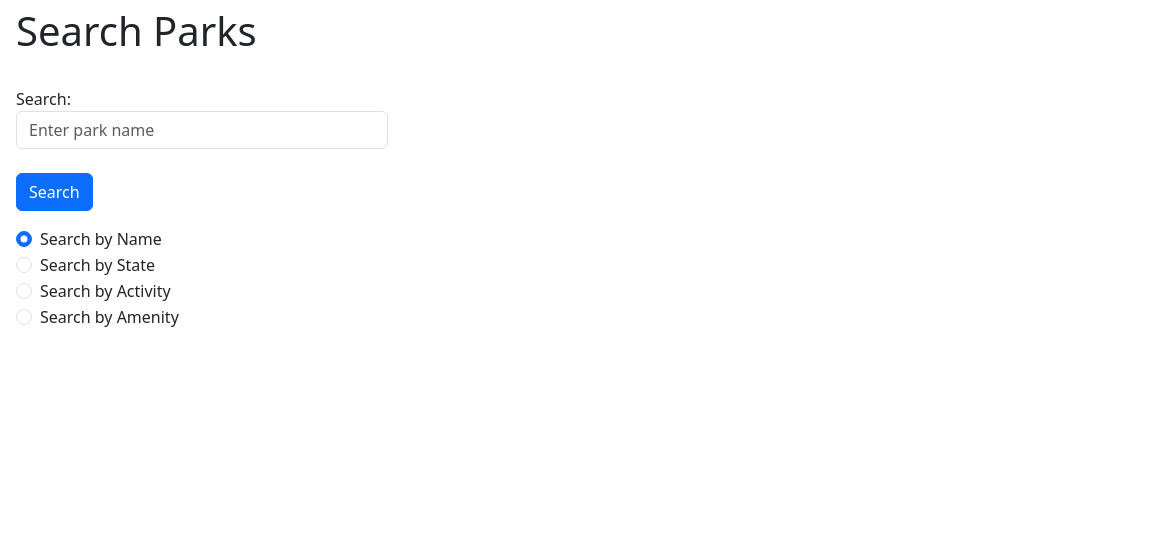
it: Search component › search by amenity
Click the radio button labelled "Search by Amenity" at x=24, y=317, box [16, 309, 32, 325]
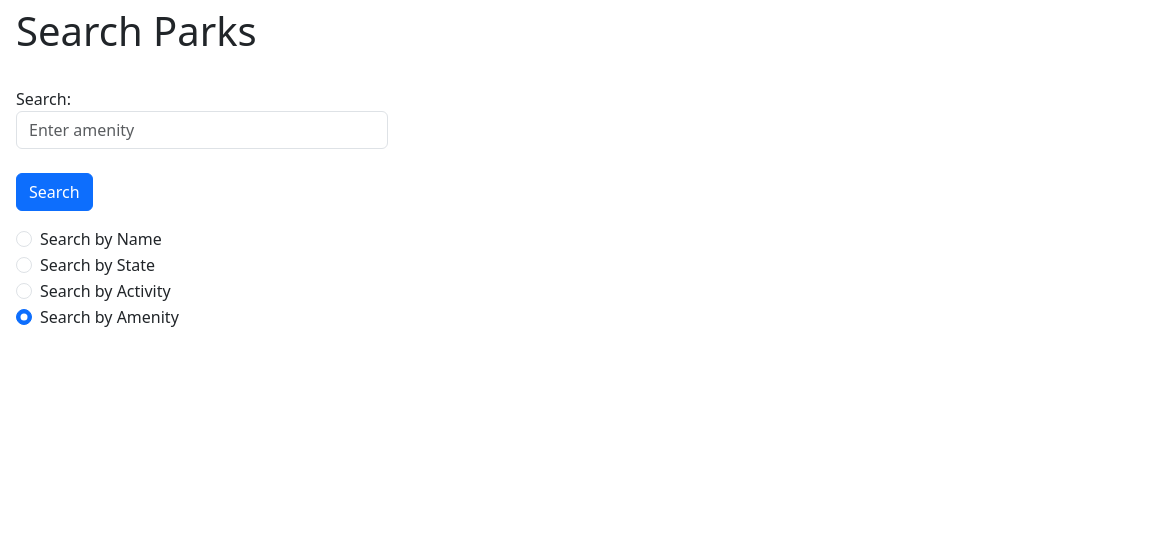
Note: Enter search term and submit form
Type "Restrooms" into the field with placeholder "Enter amenity" at x=202, y=130, box [16, 111, 388, 149]
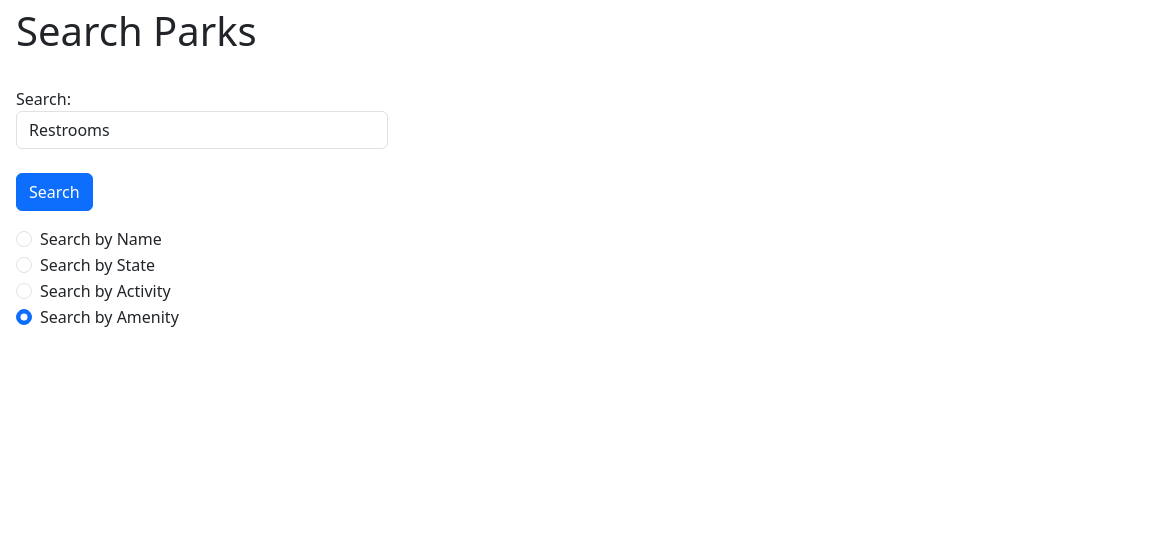
Click the button "Search" at x=54, y=192, box [16, 173, 93, 211]
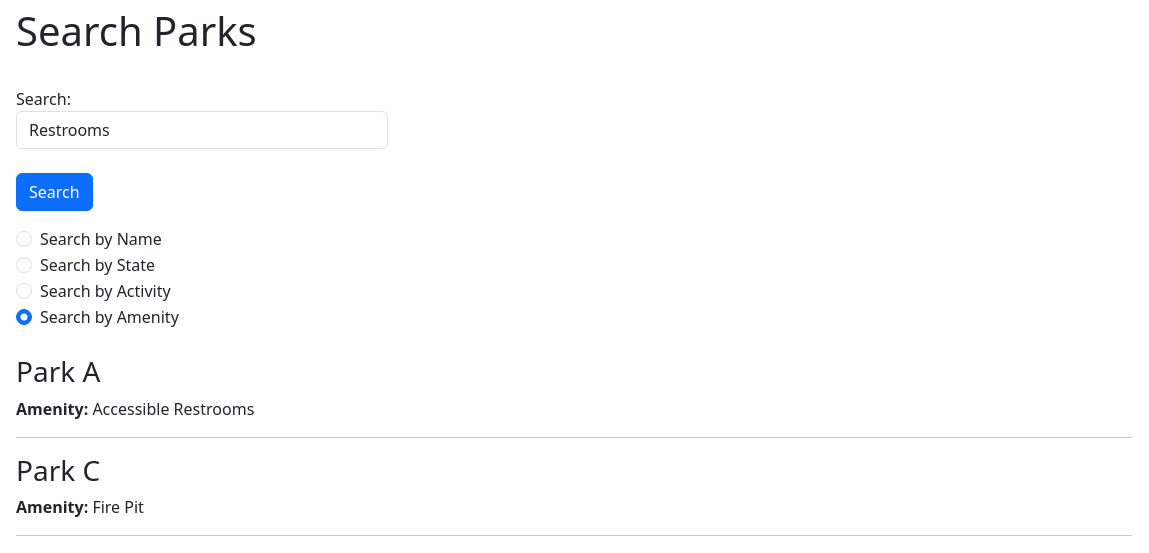
Check: the text "Accessible Restrooms" is shown, box [92, 398, 254, 420]
Check: the heading "Park A" is shown, box [16, 352, 100, 390]
Check: the text "Fire Pit" is shown, box [92, 496, 144, 518]
